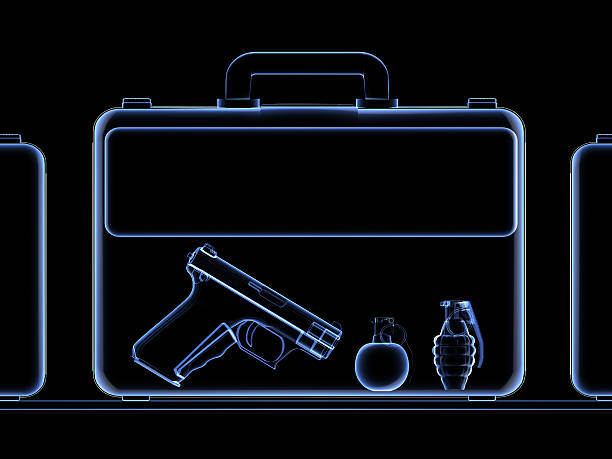e1: (428, 299, 485, 395), (352, 317, 412, 394)
